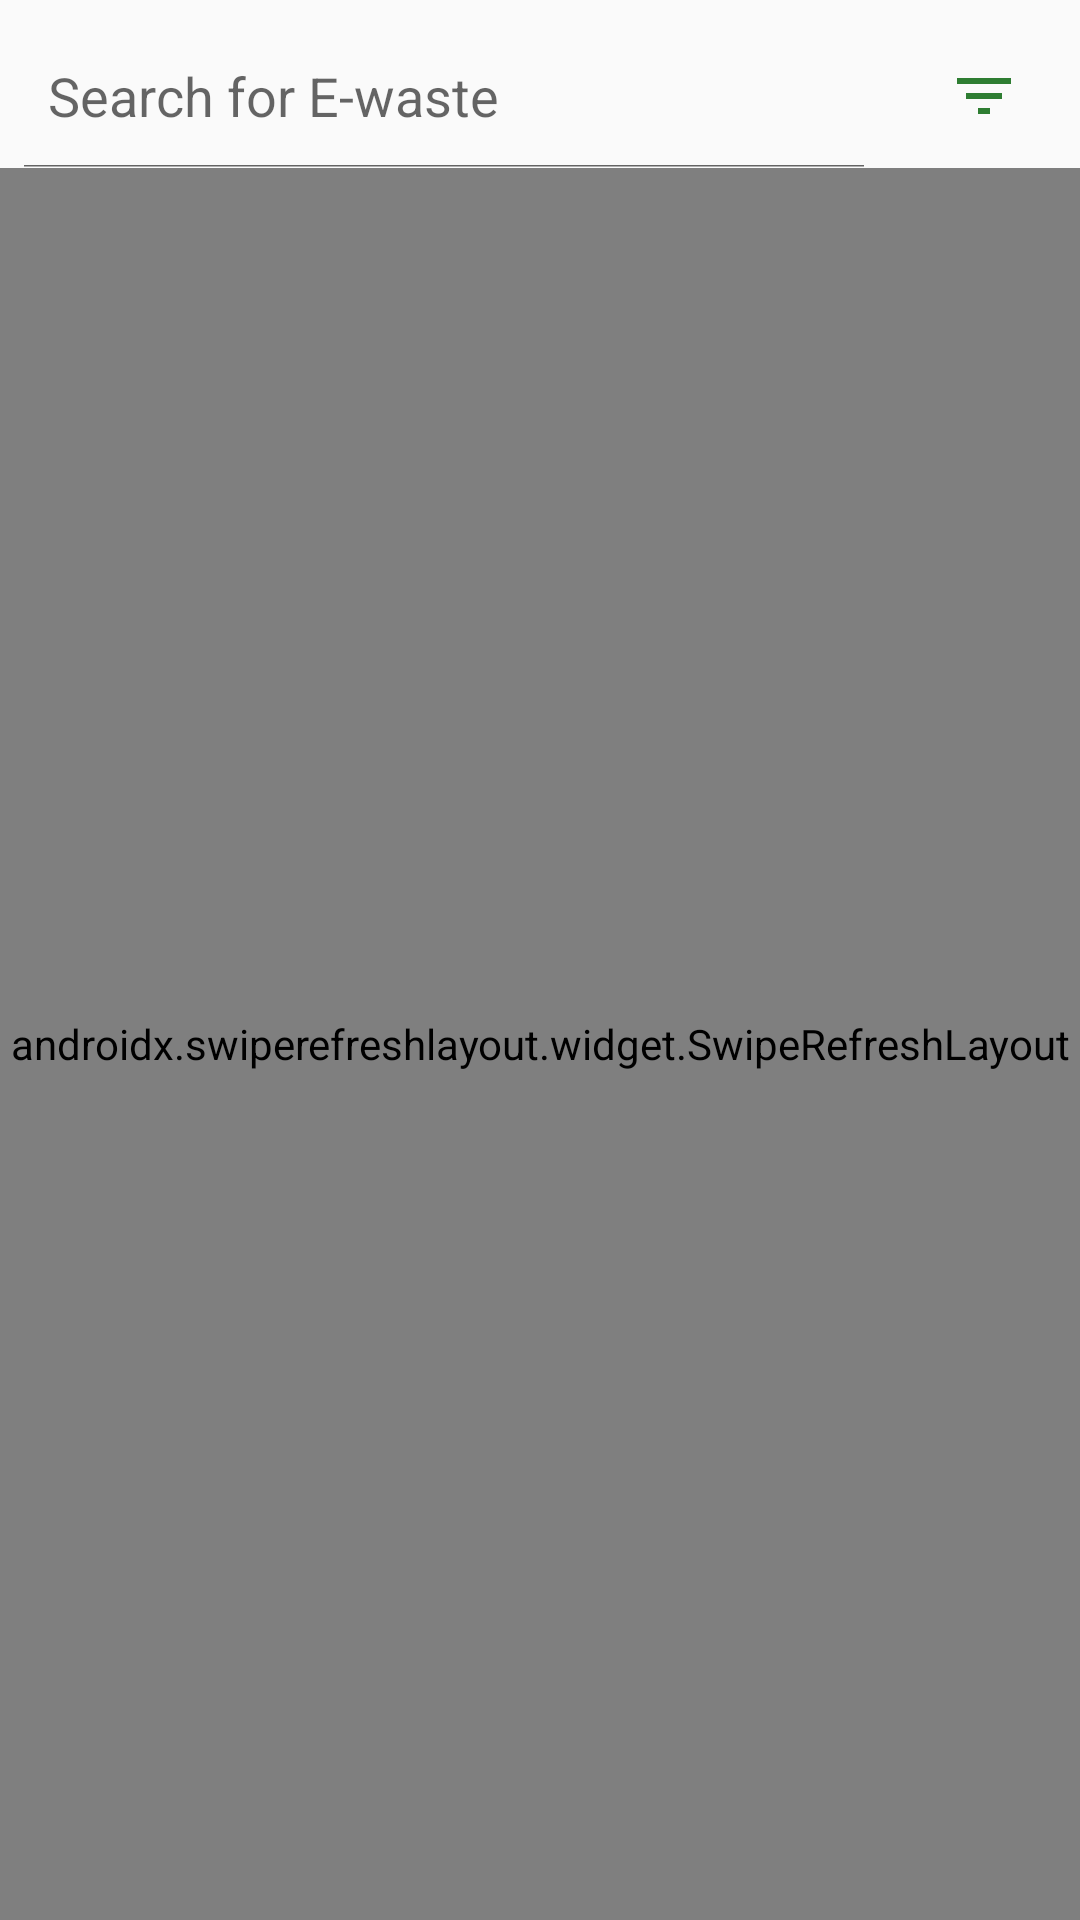

Screen size 1080x1920. Icon name, then its box in pixels as bbox(x1, y1, x2, y2):
filter list: bbox(957, 78, 1011, 114)
